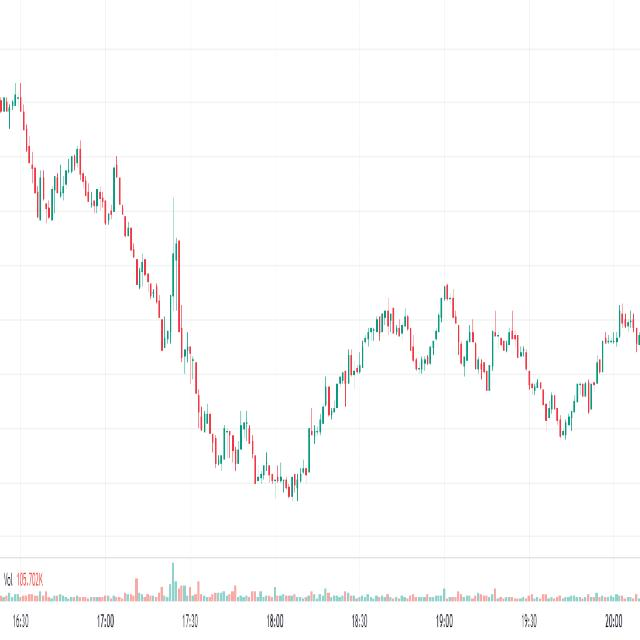Rounding-Top: (297, 266, 571, 509)
